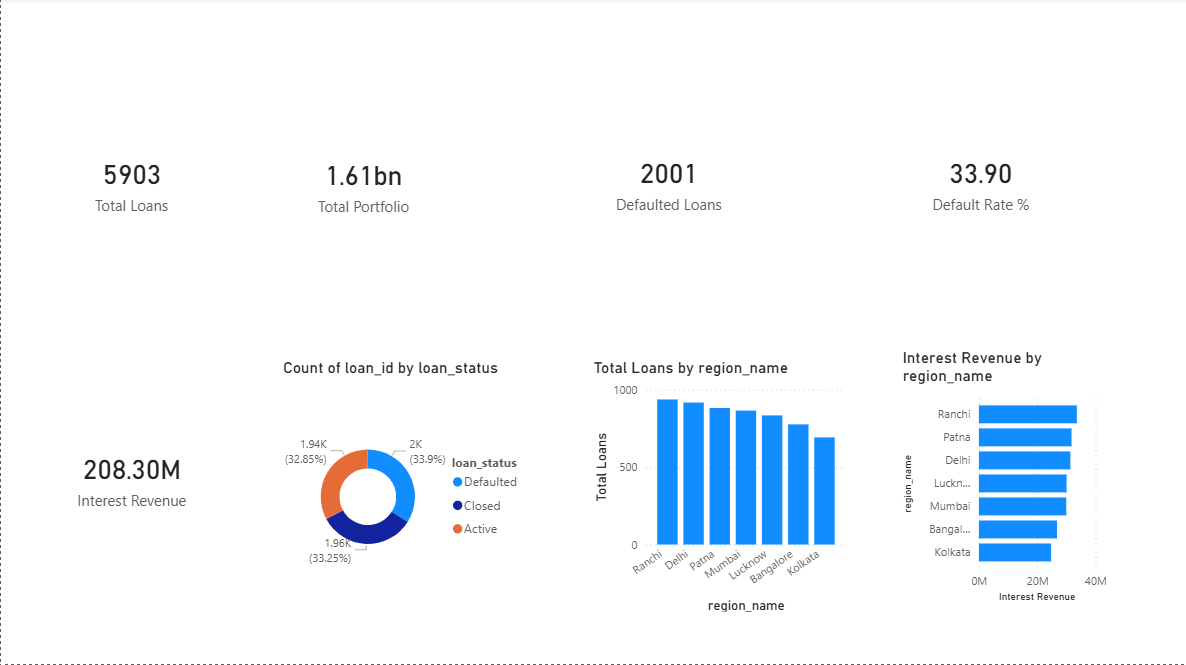

The dashboard page shown, as its layout file describes it:
{"tool":"powerbi","page":{"name":"executive review","canvas":[1280,720],"ordinal":0},"visuals":[{"type":"card","fields":{"Values":["Loans.Default Rate %"]},"box":[916.5,59.9,281.7,278.5],"z":0},{"type":"card","fields":{"Values":["Loans.Total Loans"]},"box":[0,62.3,281.2,277.4],"z":1000},{"type":"card","fields":{"Values":["Loans.Defaulted Loans"]},"box":[579.7,59.9,281.7,278.5],"z":2000},{"type":"card","fields":{"Values":["Loans.Total Portfolio"]},"box":[251,61.5,280.1,278.5],"z":3000},{"type":"card","fields":{"Values":["Loans.Interest Revenue"]},"box":[0,378.9,281.7,278.5],"z":4000},{"type":"donutChart","fields":{"Category":["Loans.loan_status"],"Y":["CountNonNull(Loans.loan_id)"]},"box":[299.6,390.2,280.1,278.5],"z":5000},{"type":"clusteredColumnChart","fields":{"Category":["Regions.region_name"],"Y":["Loans.Total Loans"]},"box":[634.7,390.2,281.7,278.5],"z":6000},{"type":"barChart","fields":{"Category":["Regions.region_name"],"Y":["Loans.Interest Revenue"]},"box":[968.3,378.9,229.9,278.5],"z":7000}]}

Visuals, with their boxes in screenshot pixels (x1, y1, x2, y2), scaled from the page's 1280x720 canvas onto the 1186x665 screenshot:
card - Loans.Default Rate %: x1=849 y1=55 x2=1110 y2=313
card - Loans.Total Loans: x1=0 y1=58 x2=261 y2=314
card - Loans.Defaulted Loans: x1=537 y1=55 x2=798 y2=313
card - Loans.Total Portfolio: x1=233 y1=57 x2=492 y2=314
card - Loans.Interest Revenue: x1=0 y1=350 x2=261 y2=607
donutChart - Loans.loan_status x CountNonNull(Loans.loan_id): x1=278 y1=360 x2=537 y2=618
clusteredColumnChart - Regions.region_name x Loans.Total Loans: x1=588 y1=360 x2=849 y2=618
barChart - Regions.region_name x Loans.Interest Revenue: x1=897 y1=350 x2=1110 y2=607
